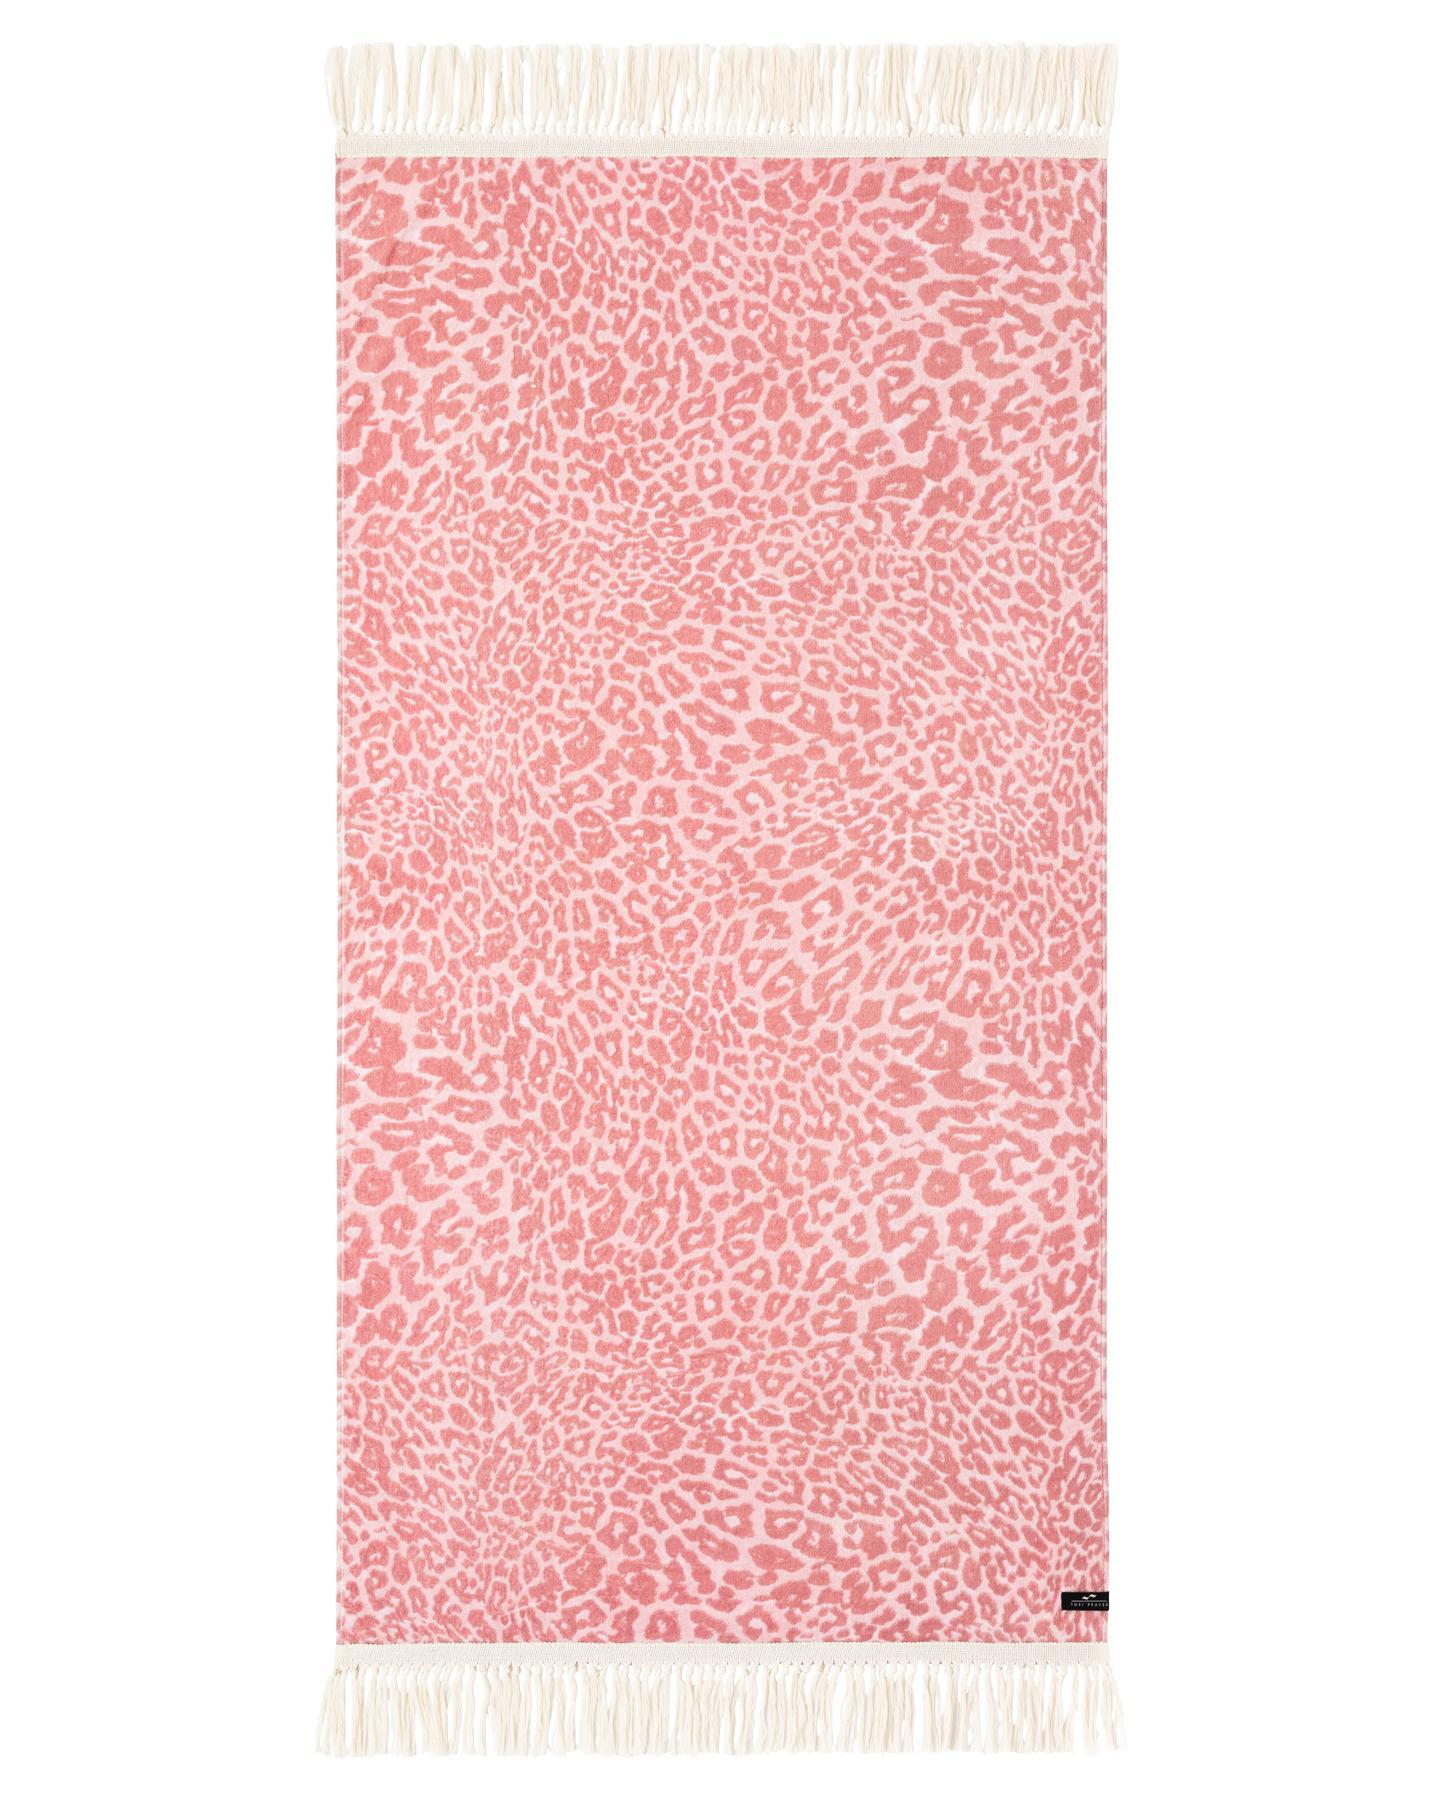towel: (320, 145, 1120, 1640)
